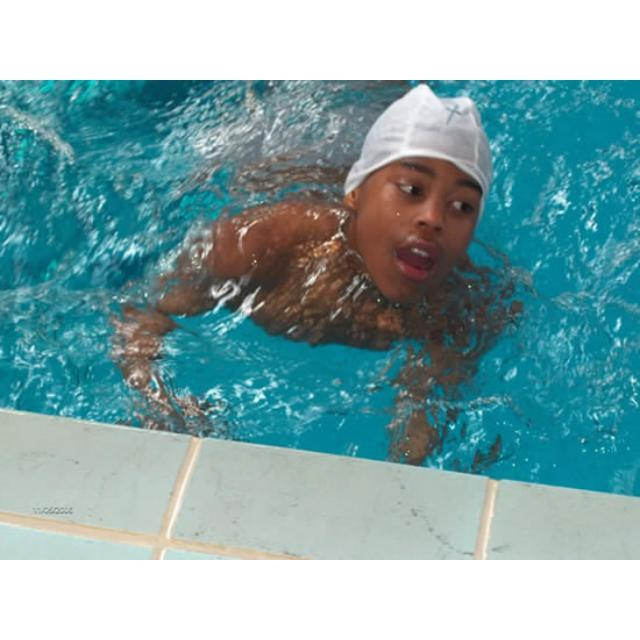human: (114, 89, 511, 456)
